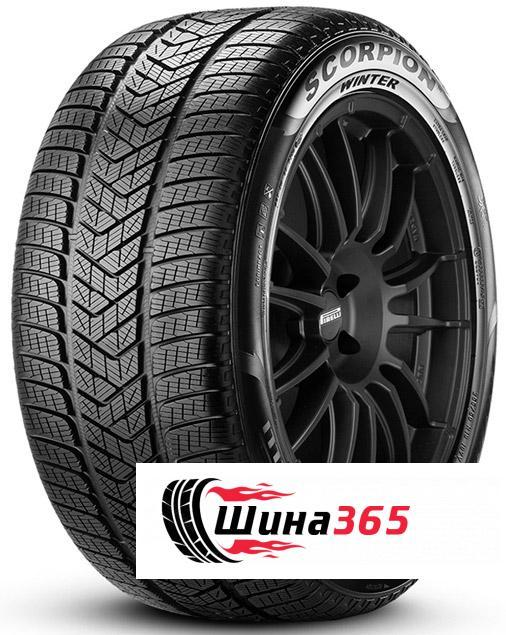objects: (135, 462, 506, 579)
